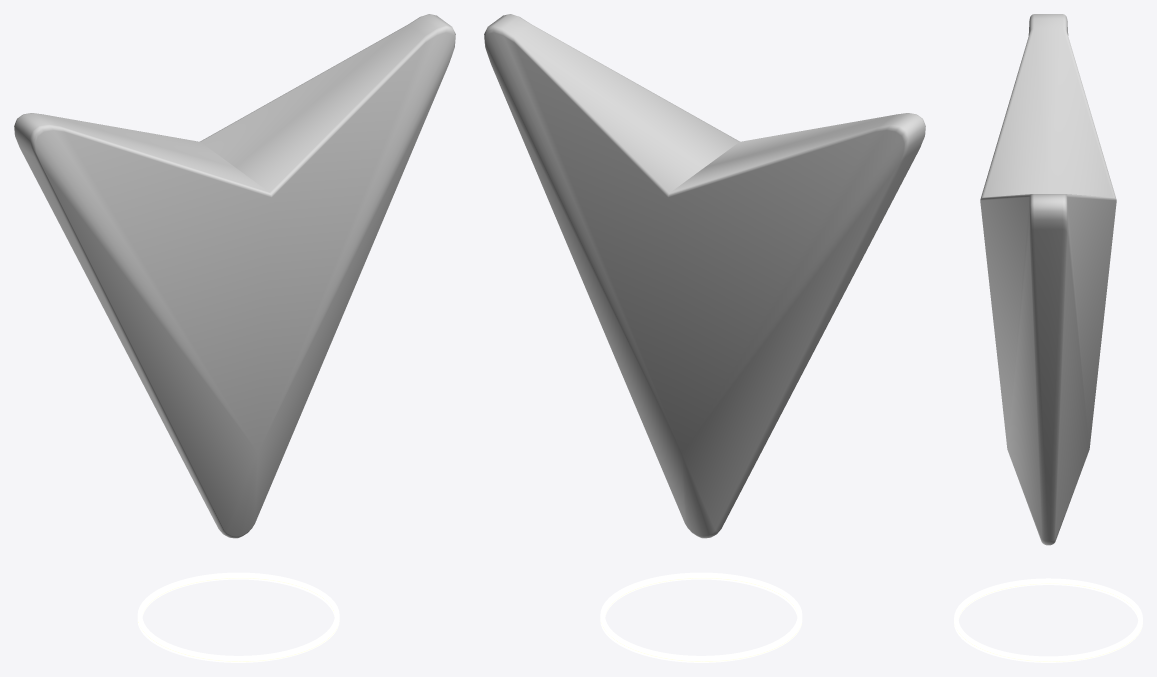
3 views of the same model, side by side, from view 1: azimuth 30°, elevation 25°; view 2: azimuth 150°, elevation 25°; view 3: azimuth 270°, elevation 25° (orthographic). The views are drawn at different scales.
Parts seen in each view (by area): view 1: Object_4, 圆环; view 2: Object_4, 圆环; view 3: Object_4, 圆环.
Boxes of the visible parts, x1,y1,x2,y2 form: Object_4: [14, 14, 455, 538]; 圆环: [137, 572, 339, 662]; Object_4: [484, 14, 925, 538]; 圆环: [600, 572, 802, 662]; Object_4: [980, 14, 1116, 545]; 圆环: [954, 578, 1142, 662].
Size of the model in its own units: 130 by 161 by 53.52.
